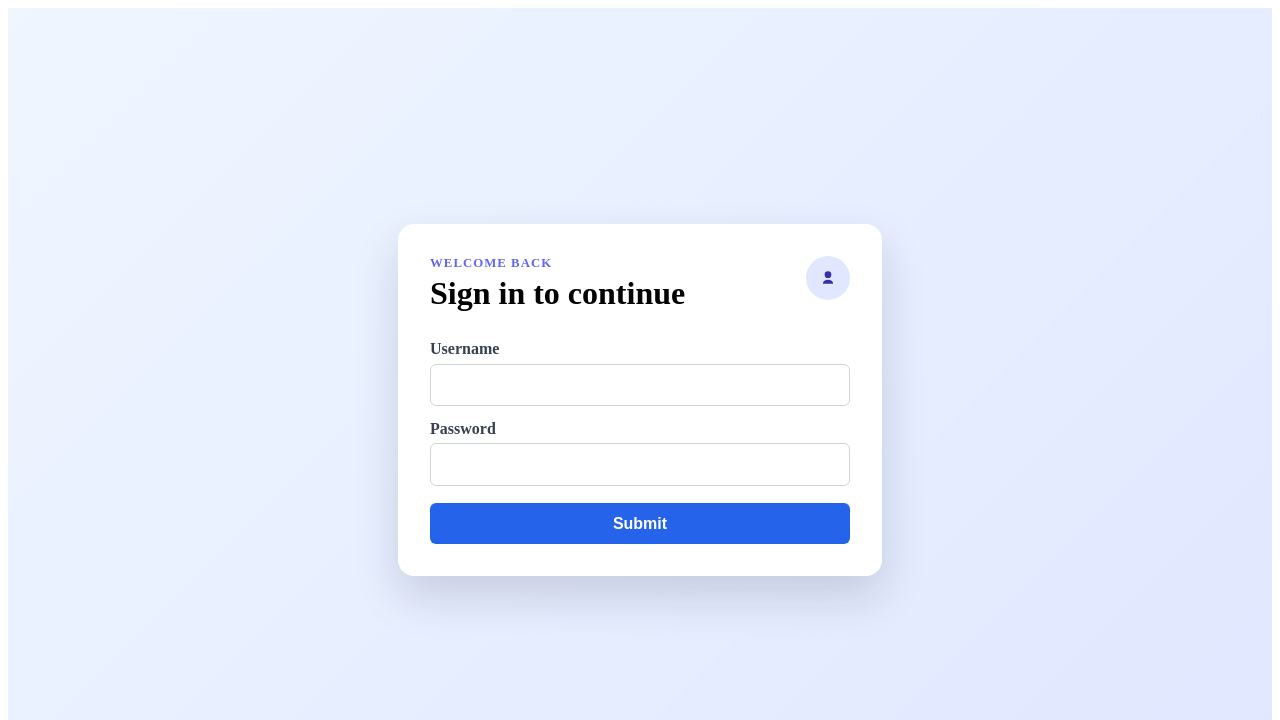
Test: WelcomeScreen › shows feedback when the profile button is clicked
Click the button named "user profile".
click(828, 278)  # box [806, 256, 850, 300]
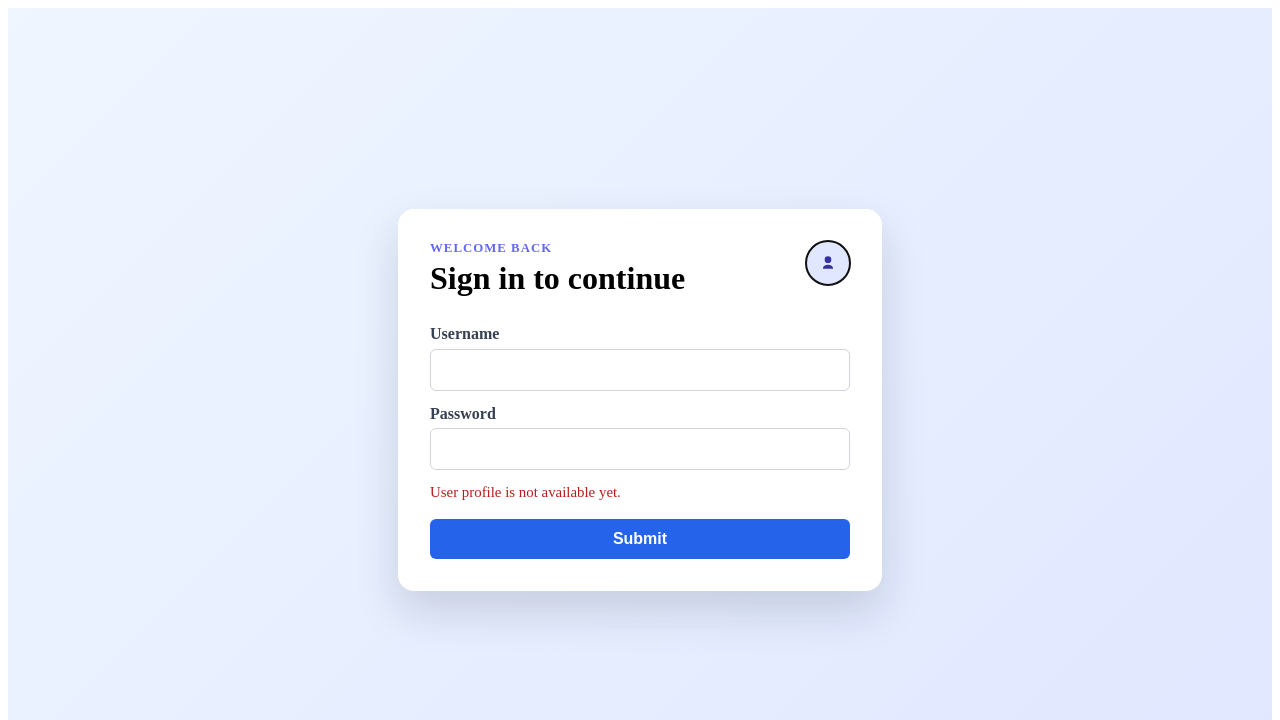
Result: the text "User profile is not available yet." is shown at [430, 484, 621, 500]
